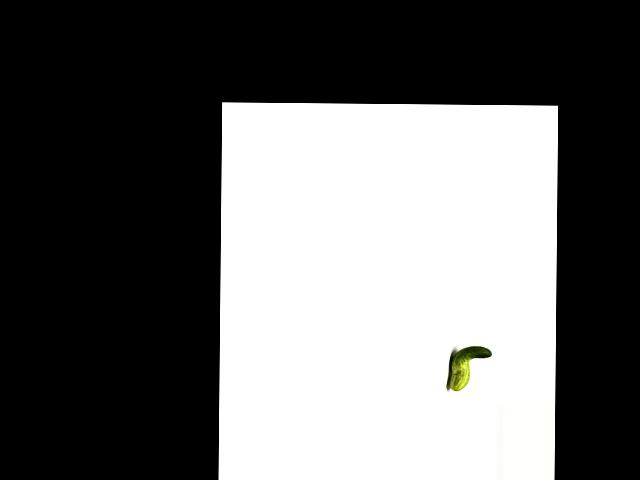cucumber: (449, 345, 491, 391)
